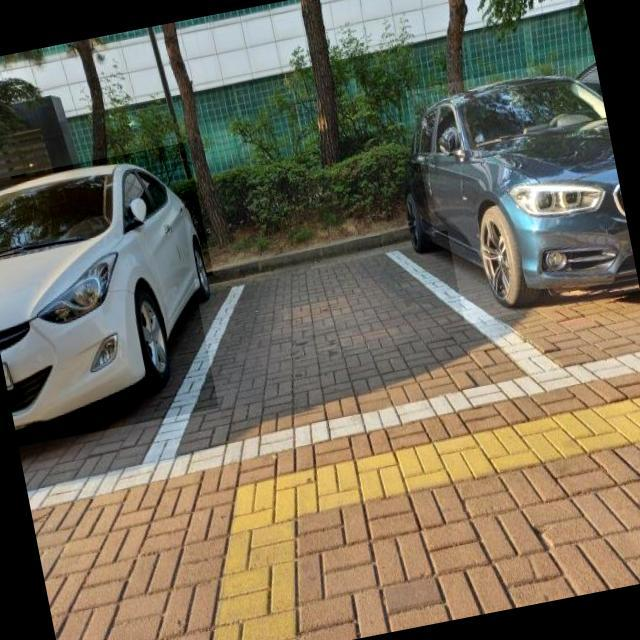empty: (194, 230, 485, 474)
occupied: (0, 142, 238, 447), (406, 55, 640, 328)
